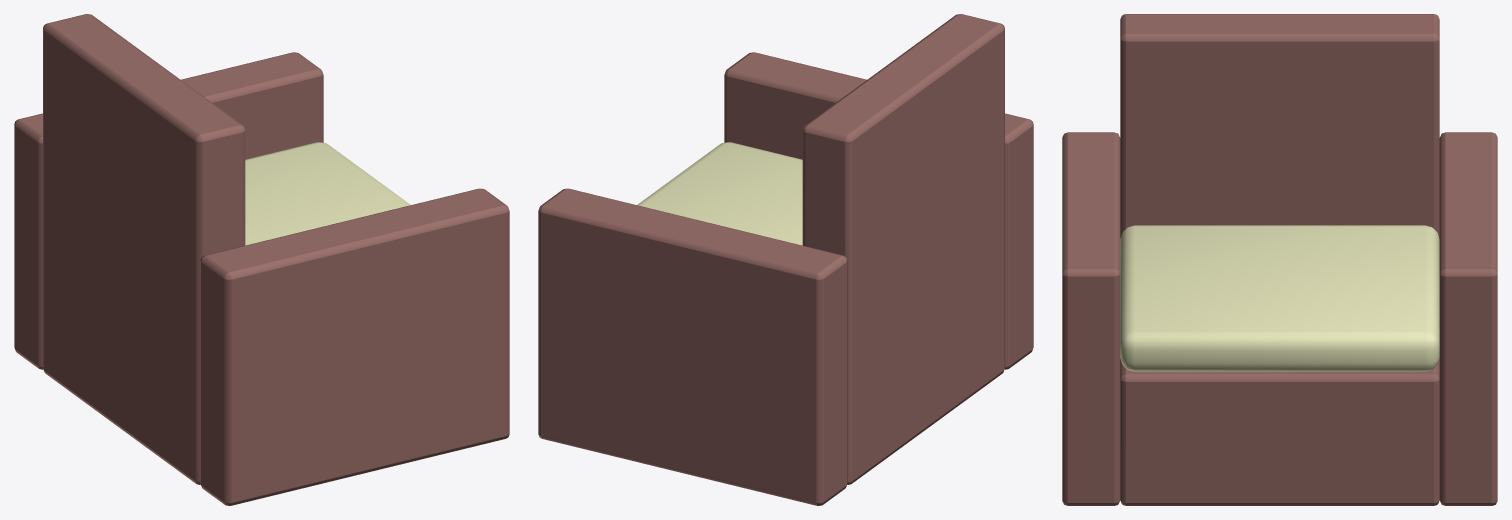
File: ArmchairBlockout_RB.fbx
The picture shows the model from 3 angles, left to right: view 1: azimuth 30°, elevation 25°; view 2: azimuth 150°, elevation 25°; view 3: azimuth 270°, elevation 25°; orthographic projection.
Visible parts, largest first — view 1: ArmchairBlockout_RB; view 2: ArmchairBlockout_RB; view 3: ArmchairBlockout_RB.
Part boxes in pixels (x1,y1,x2,y2): ArmchairBlockout_RB: (14,14,509,505); ArmchairBlockout_RB: (538,14,1033,505); ArmchairBlockout_RB: (1062,14,1497,505).
Size of the model in its own units: 161 by 189 by 210.
